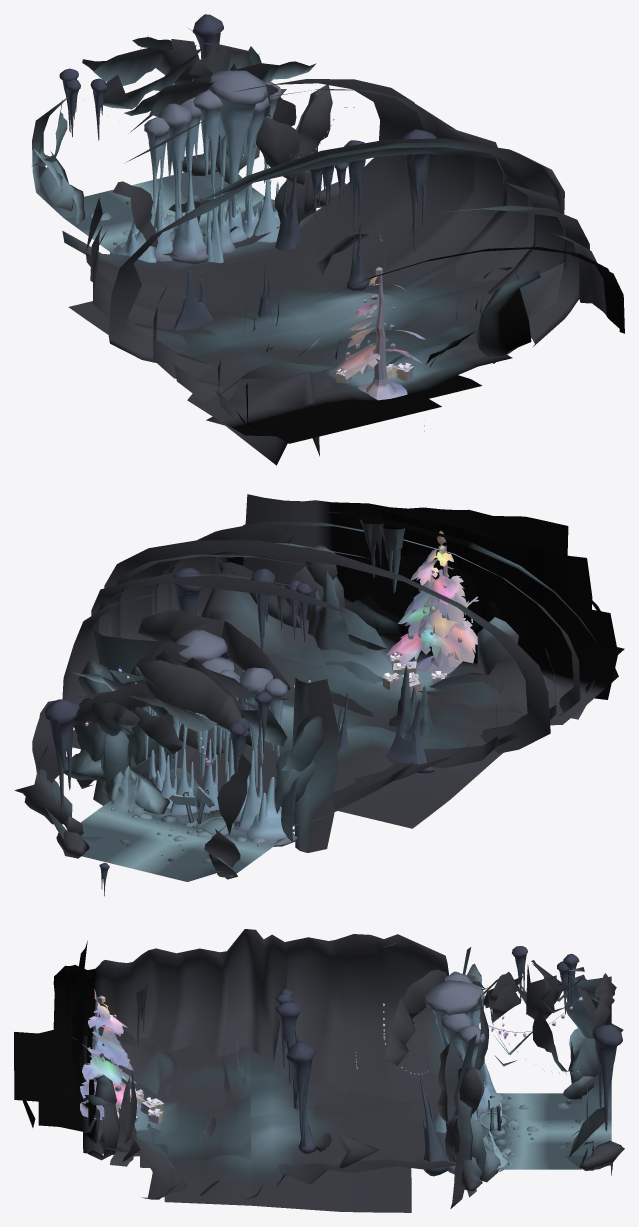
Rendered from Arctic_Tunnels_T_Junction_C.glb.
3 renders of one model, top to bottom at view 1: azimuth 30°, elevation 25°; view 2: azimuth 150°, elevation 25°; view 3: azimuth 270°, elevation 25°, orthographic. The views are drawn at different scales.
Parts seen in each view (by area): view 1: Arctic_Tunnels_T_Junction_C, Arctic_Tunnels_Icicle_Bright_A04, Arctic_Tunnels_Icicle_Bright_A07, Arctic_Tunnels_Icicle_Bright_A03 (3), Arctic_PineA_holiday_multicolour, Arctic_Tunnels_Icicle_Bright_A05, Arctic_Tunnels_Icicle_Shadow_A07 (2), Arctic_Tunnels_Icicle_Shadow_A08 (1), Arctic_Tunnels_Icicle_Shadow_A07, Arctic_Tunnels_Icicle_Bright_A08, Arctic_PineA_leavesBottom_holiday_multicolour, Arctic_Tunnels_Icicle_Bright_A05 (3) (+8 smaller); view 2: Arctic_Tunnels_T_Junction_C, Arctic_PineA_leavesBottom_holiday_multicolour, Arctic_Tunnels_Icicle_Shadow_A02, Arctic_PineA_leavesMiddle_holiday_multicolour, Arctic_Tunnels_Icicle_Bright_A04, Arctic_PineA_leavesTop_holiday_multicolour, Arctic_Tunnels_Icicle_Bright_A04 (3), Arctic_Tunnels_Icicle_Shadow_A08 (1), Arctic_Tunnels_Icicle_Bright_A07, Arctic_Tunnels_Icicle_Bright_A03 (2), Arctic_Tunnels_Icicle_Shadow_A07 (2), Arctic_Tunnels_Icicle_Shadow_A07 (5) (+4 smaller); view 3: Arctic_Tunnels_T_Junction_C, Arctic_Tunnels_Icicle_Bright_A04, Arctic_Tunnels_Icicle_Shadow_A02, Arctic_Tunnels_Icicle_Shadow_A07 (2), Arctic_PineA_leavesBottom_holiday_multicolour, Arctic_Tunnels_Icicle_Shadow_A07, Arctic_Tunnels_Icicle_Shadow_A07 (5), Arctic_PineA_leavesMiddle_holiday_multicolour, Arctic_PineA_leavesTop_holiday_multicolour, Arctic_Tunnels_Icicle_Bright_A02, Arctic_Tunnels_Icicle_Bright_A02 (1), Arctic_PineA_holiday_multicolour.
Boxes of the visible parts, bbox=[...] form: Arctic_Tunnels_T_Junction_C: bbox=[31, 28, 624, 465]; Arctic_Tunnels_Icicle_Bright_A04: bbox=[209, 70, 268, 219]; Arctic_Tunnels_Icicle_Bright_A07: bbox=[158, 103, 192, 230]; Arctic_Tunnels_Icicle_Bright_A03 (3): bbox=[170, 168, 208, 264]; Arctic_PineA_holiday_multicolour: bbox=[358, 271, 407, 400]; Arctic_Tunnels_Icicle_Bright_A05: bbox=[193, 89, 222, 194]; Arctic_Tunnels_Icicle_Shadow_A07 (2): bbox=[401, 129, 436, 251]; Arctic_Tunnels_Icicle_Shadow_A08 (1): bbox=[172, 269, 213, 335]; Arctic_Tunnels_Icicle_Shadow_A07: bbox=[275, 173, 300, 250]; Arctic_Tunnels_Icicle_Bright_A08: bbox=[144, 117, 170, 209]; Arctic_PineA_leavesBottom_holiday_multicolour: bbox=[330, 329, 425, 379]; Arctic_Tunnels_Icicle_Bright_A05 (3): bbox=[253, 166, 280, 242]; Arctic_Tunnels_T_Junction_C: bbox=[14, 494, 624, 881]; Arctic_PineA_leavesBottom_holiday_multicolour: bbox=[386, 599, 477, 666]; Arctic_Tunnels_Icicle_Shadow_A02: bbox=[45, 699, 79, 813]; Arctic_PineA_leavesMiddle_holiday_multicolour: bbox=[404, 589, 478, 638]; Arctic_Tunnels_Icicle_Bright_A04: bbox=[176, 630, 227, 778]; Arctic_PineA_leavesTop_holiday_multicolour: bbox=[410, 530, 465, 605]; Arctic_Tunnels_Icicle_Bright_A04 (3): bbox=[246, 777, 297, 846]; Arctic_Tunnels_Icicle_Shadow_A08 (1): bbox=[385, 700, 434, 773]; Arctic_Tunnels_Icicle_Bright_A07: bbox=[240, 667, 272, 790]; Arctic_Tunnels_Icicle_Bright_A03 (2): bbox=[234, 750, 262, 830]; Arctic_Tunnels_Icicle_Shadow_A07 (2): bbox=[173, 568, 204, 615]; Arctic_Tunnels_Icicle_Shadow_A07 (5): bbox=[251, 568, 274, 650]; Arctic_Tunnels_T_Junction_C: bbox=[14, 929, 624, 1212]; Arctic_Tunnels_Icicle_Bright_A04: bbox=[425, 980, 483, 1048]; Arctic_Tunnels_Icicle_Shadow_A02: bbox=[593, 1024, 622, 1131]; Arctic_Tunnels_Icicle_Shadow_A07 (2): bbox=[286, 1041, 315, 1151]; Arctic_PineA_leavesBottom_holiday_multicolour: bbox=[80, 1049, 146, 1107]; Arctic_Tunnels_Icicle_Shadow_A07: bbox=[420, 1076, 448, 1176]; Arctic_Tunnels_Icicle_Shadow_A07 (5): bbox=[275, 1001, 300, 1084]; Arctic_PineA_leavesMiddle_holiday_multicolour: bbox=[74, 1031, 133, 1070]; Arctic_PineA_leavesTop_holiday_multicolour: bbox=[88, 989, 127, 1042]; Arctic_Tunnels_Icicle_Bright_A02: bbox=[441, 1013, 472, 1060]; Arctic_Tunnels_Icicle_Bright_A02 (1): bbox=[459, 1025, 485, 1119]; Arctic_PineA_holiday_multicolour: bbox=[80, 997, 120, 1119].
Size of what is drawn, in the model's own units: 22.11 by 10.36 by 28.37.
